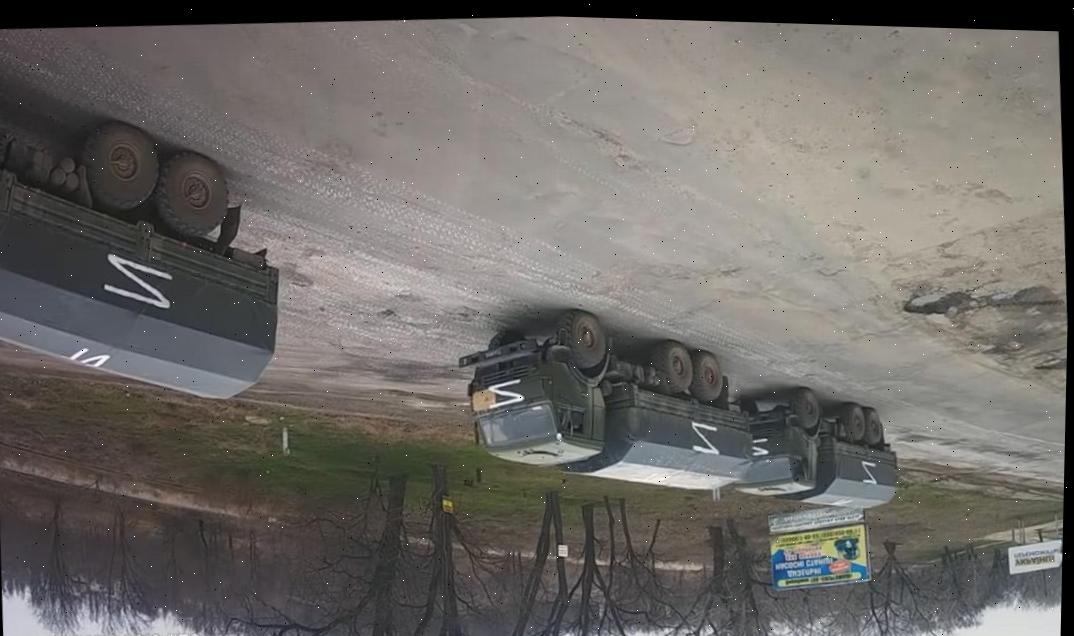truck: (0, 102, 301, 414), (455, 287, 763, 506), (728, 384, 910, 514)
